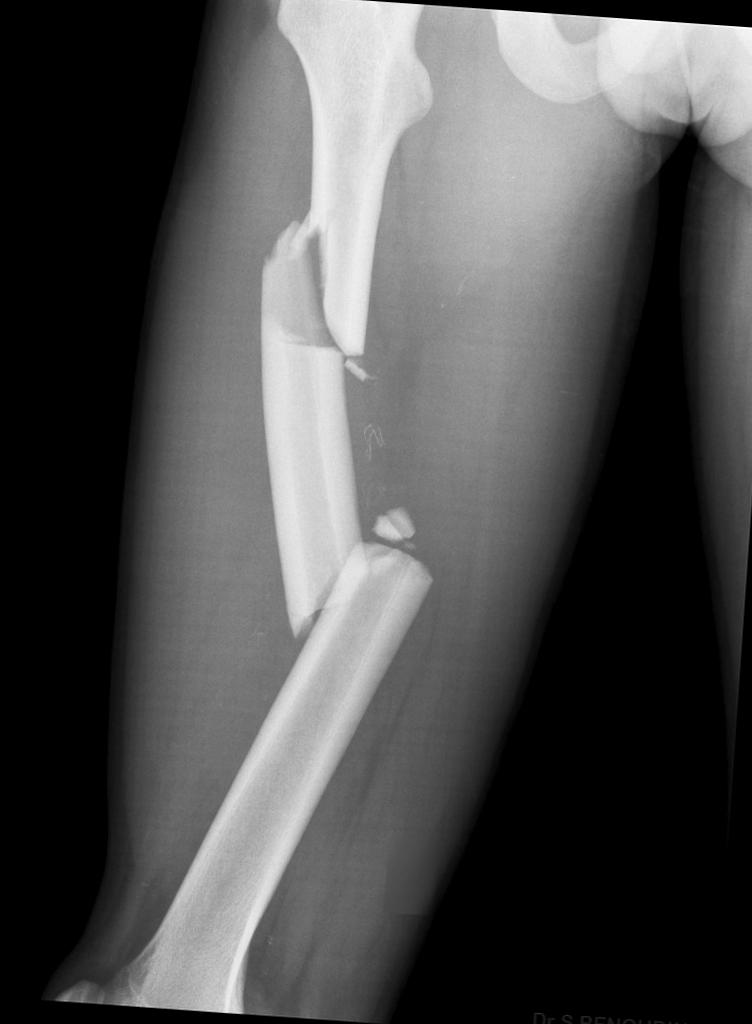messed_up_angle: (251, 202, 388, 386), (288, 496, 442, 654)
